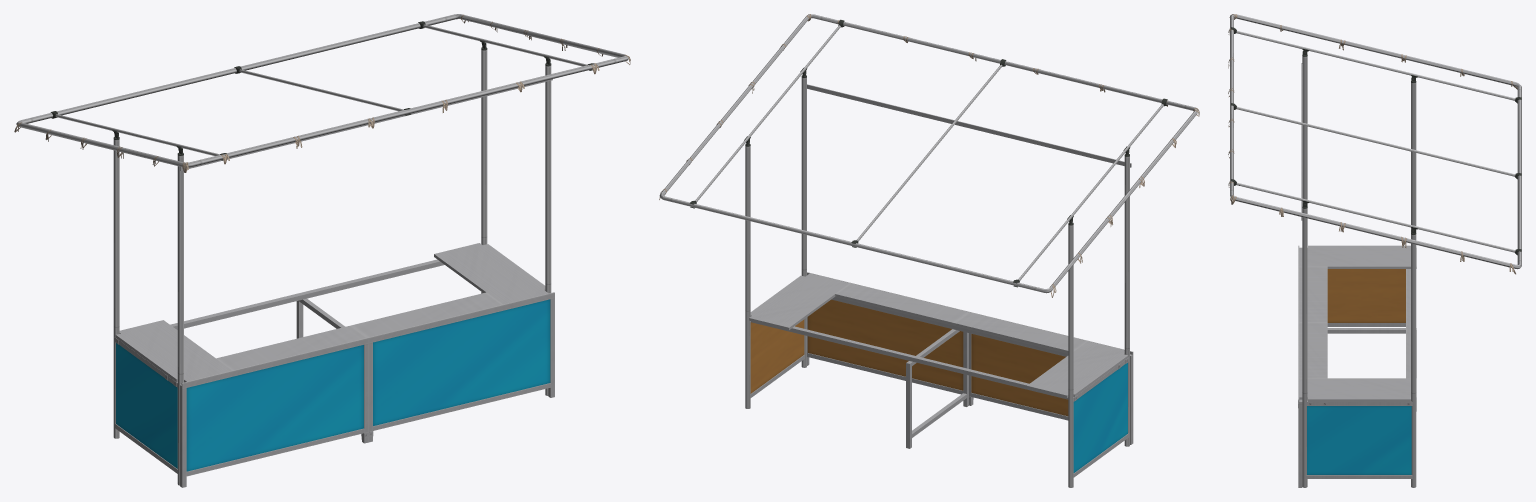
The model's file is jsf_4P_s03_c02_t04.fbx.
The picture shows the model from 3 angles, left to right: view 1: azimuth 30°, elevation 25°; view 2: azimuth 150°, elevation 25°; view 3: azimuth 270°, elevation 25°; orthographic projection. The views are drawn at different scales.
Parts seen in each view (by area): view 1: Base_s03_c02, Pillar4_s03, Table_4P_s03_t04, Rope_4P_s03, Support; view 2: Base_s03_c02, Pillar4_s03, Table_4P_s03_t04, Support; view 3: Base_s03_c02, Pillar4_s03, Table_4P_s03_t04, Support, Rope_4P_s03.
Boxes of the visible parts, x1,y1,x2,y2 form: Base_s03_c02: (114, 292, 554, 487); Pillar4_s03: (16, 14, 628, 485); Table_4P_s03_t04: (115, 243, 548, 386); Rope_4P_s03: (14, 14, 630, 172); Support: (296, 298, 361, 439); Base_s03_c02: (750, 272, 1133, 477); Pillar4_s03: (659, 14, 1198, 487); Table_4P_s03_t04: (749, 273, 1128, 400); Support: (906, 329, 968, 448); Base_s03_c02: (1298, 245, 1412, 487); Pillar4_s03: (1230, 14, 1521, 487); Table_4P_s03_t04: (1299, 245, 1416, 405); Support: (1327, 328, 1416, 411); Rope_4P_s03: (1228, 14, 1517, 274).
Size of the model in its own units: 316 by 243 by 211.
